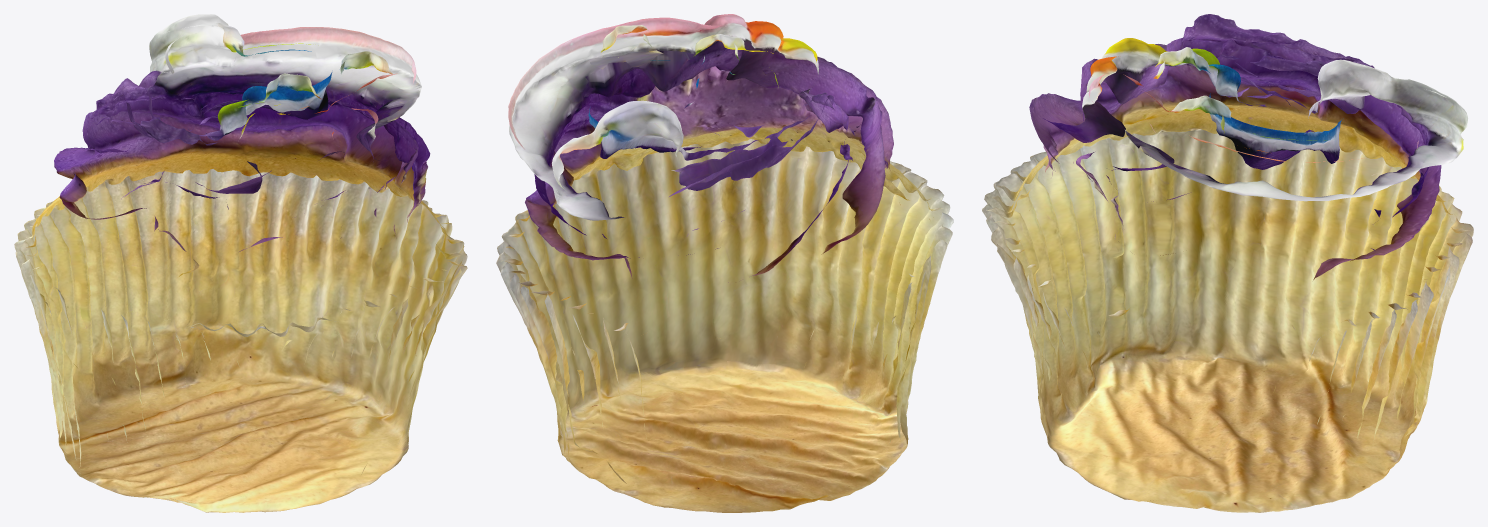
File: cupcake4.glb
3 renders of one model, left to right at view 1: azimuth 30°, elevation 25°; view 2: azimuth 150°, elevation 25°; view 3: azimuth 270°, elevation 25°, orthographic. The views are drawn at different scales.
Parts seen in each view (by area): view 1: Object_4; view 2: Object_4; view 3: Object_4.
Boxes of the visible parts, left/top/right/bottom form: Object_4: left=14, top=14, right=467, bottom=512; Object_4: left=496, top=14, right=953, bottom=512; Object_4: left=982, top=14, right=1473, bottom=512.
Size of the model in its own units: 0.5065 by 0.482 by 0.5272.
Materials: 1 (1 with a texture image).
